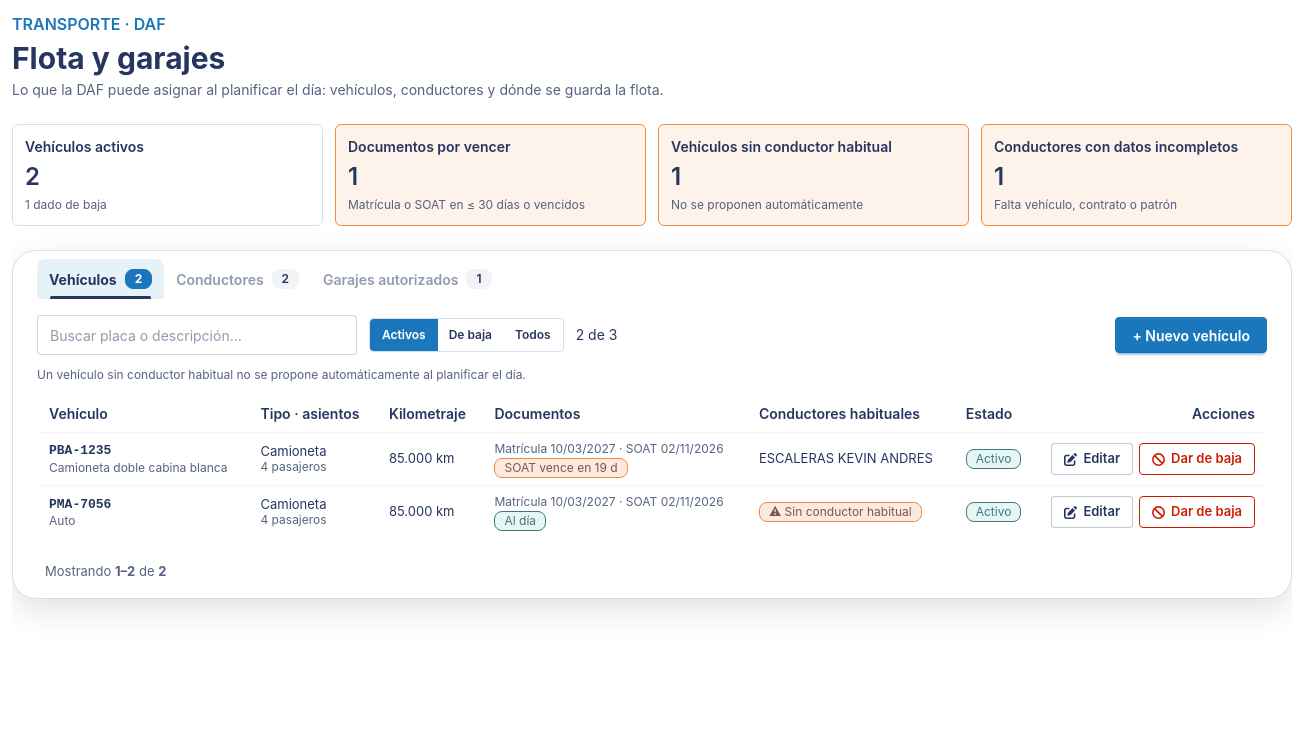
Test: indicadores › cada uno abre su pestaña con su filtro, y la ficha del filtro lo quita
Check: the text "PBA-1235" is shown, box [49,443,111,458]
Click the button "Documentos por vencer": [429, 146] box [335,124,646,226]
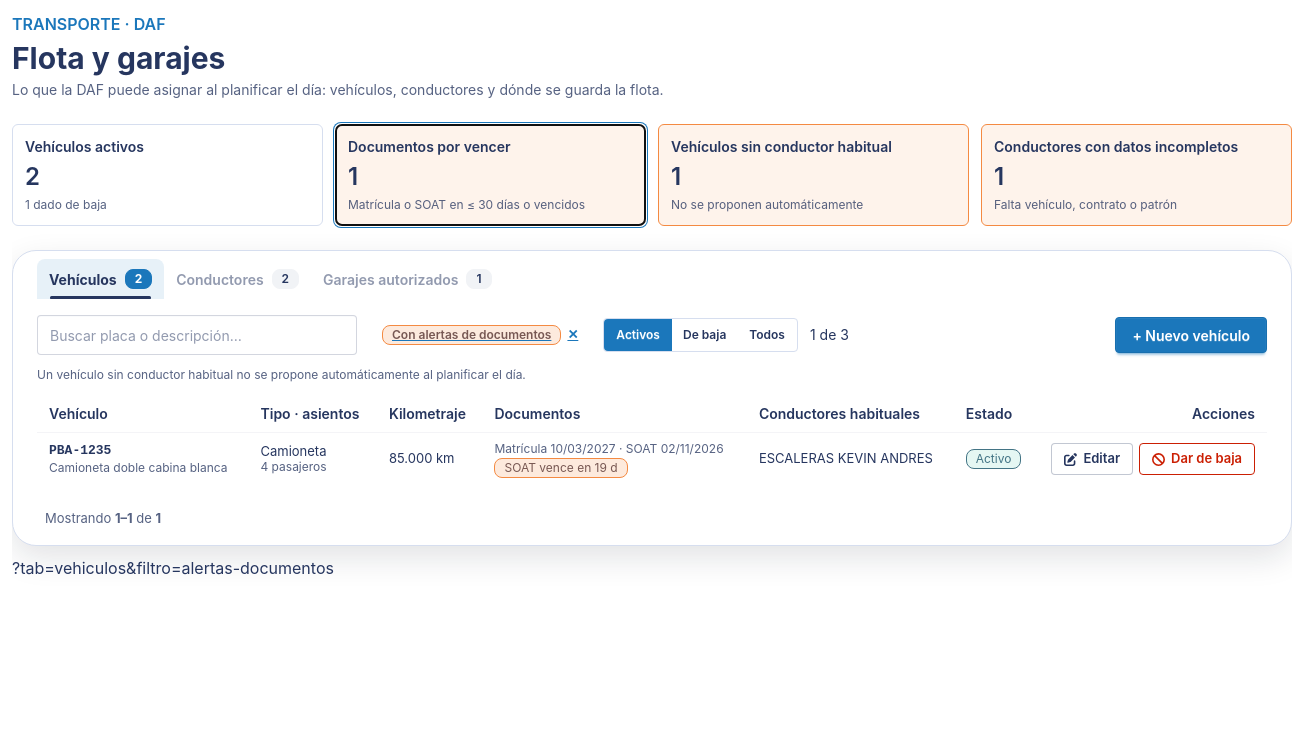
Check: the text "PBA-1235" is shown, box [49,443,111,458]
Check: the text with test id "url" shows "tab=vehiculos&filtro=alertas-documentos", box [12,558,334,578]
Check: the text "PMA-7056" is gone
Click the button "Conductores con datos incompletos": [1116, 146] box [981,124,1292,226]
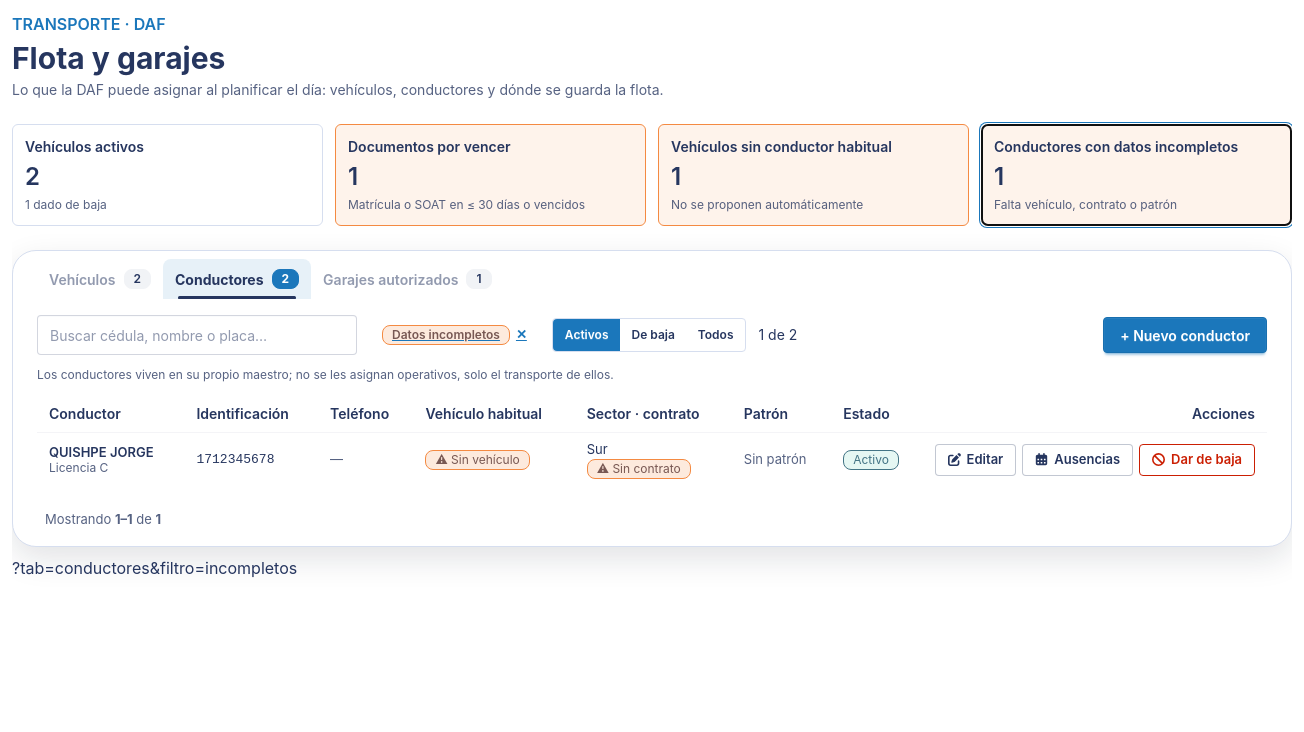
Check: the text "QUISHPE JORGE" is shown, box [49,444,154,460]
Check: the list item "ESCALERAS KEVIN ANDRES" is gone
Click the button with aria-label "Quitar el filtro «Datos incompletos»": [454, 335] box [369,319,540,351]
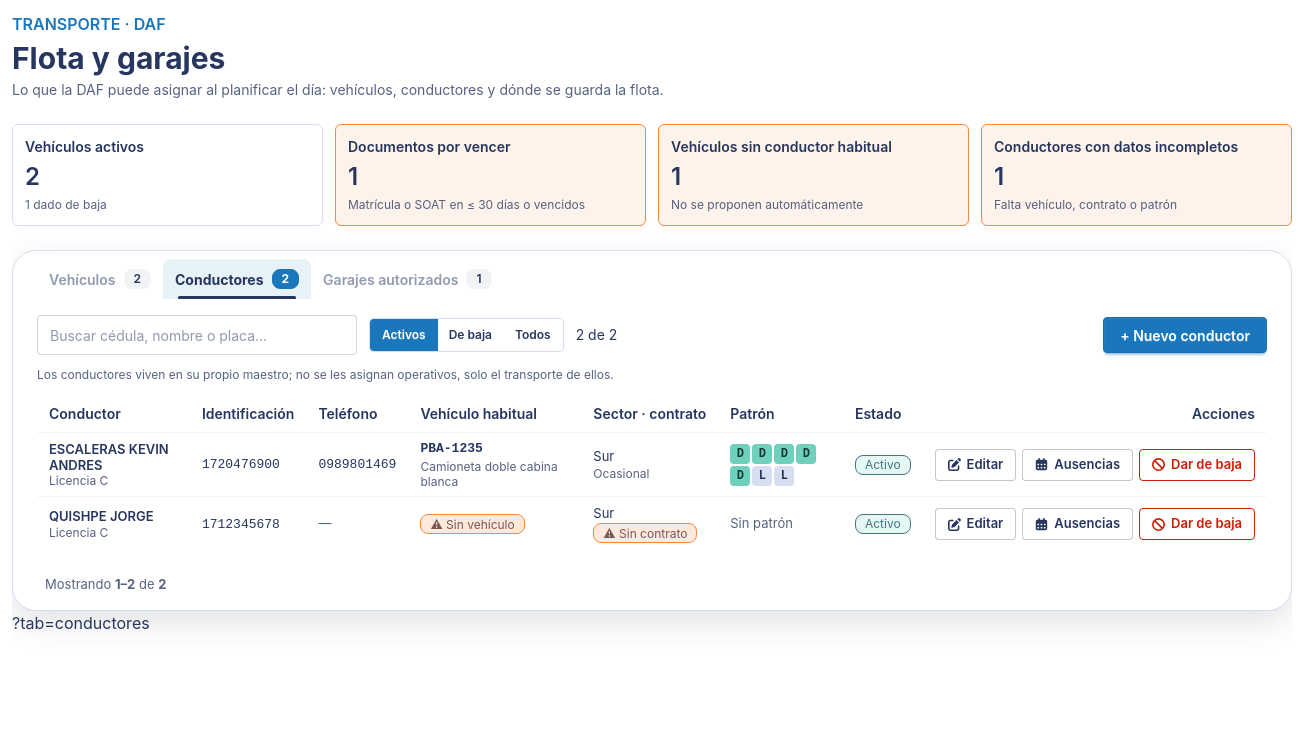
Check: the text "ESCALERAS KEVIN ANDRES" is shown, box [49,441,178,473]
Check: the text with test id "url" no longer shows "filtro=", box [12,613,150,633]
